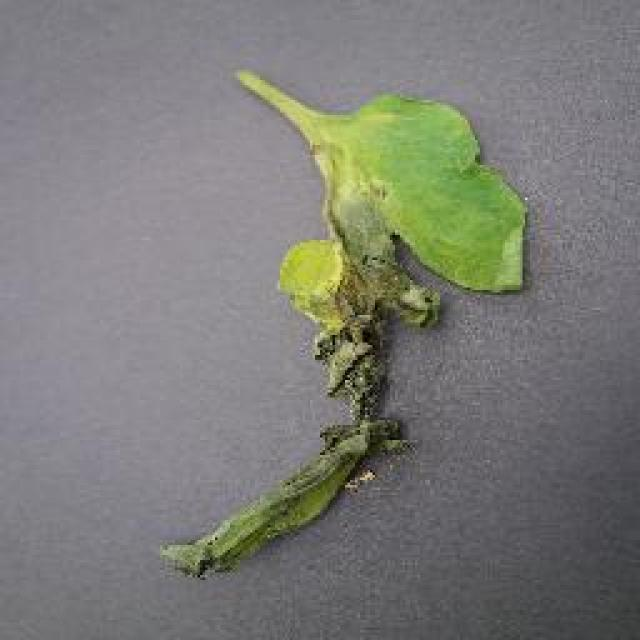Tomato Late Blight: (236, 332, 442, 606)
